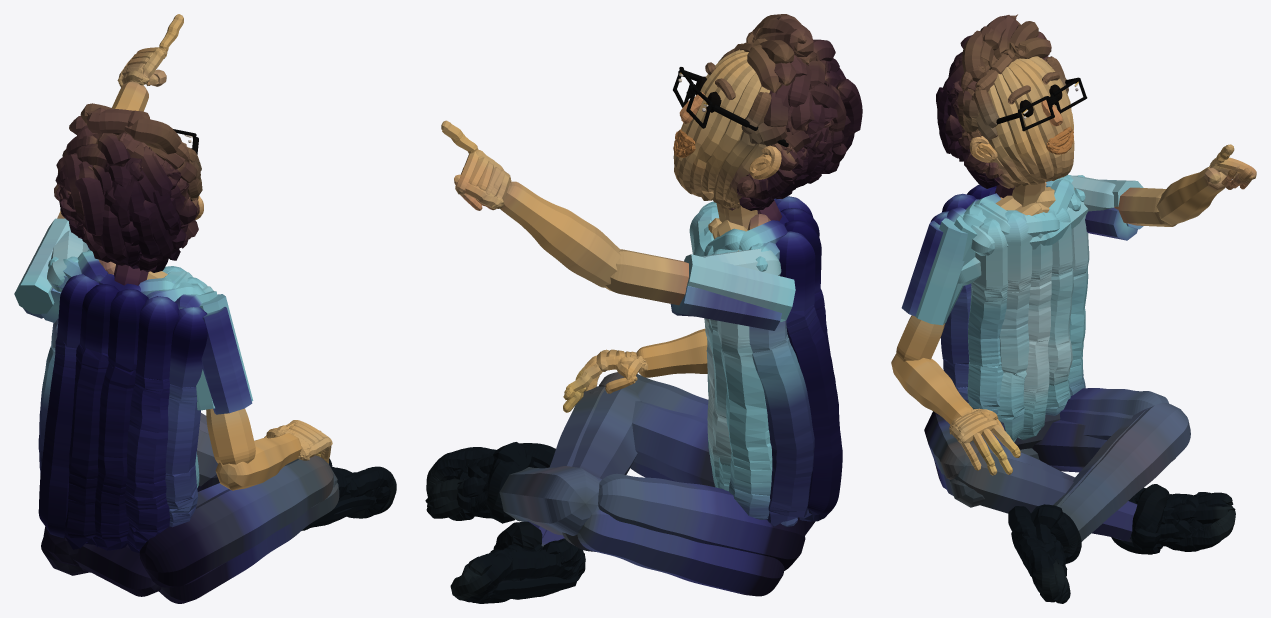
File: dadstars.fbx
3 renders of one model, left to right at view 1: azimuth 30°, elevation 25°; view 2: azimuth 150°, elevation 25°; view 3: azimuth 270°, elevation 25°, orthographic. The views are drawn at different scales.
Visible parts, largest first — view 1: NewLayer1; view 2: NewLayer1; view 3: NewLayer1.
Boxes of the visible parts, x1,y1,x2,y2 form: NewLayer1: (14,14,396,603); NewLayer1: (425,14,862,603); NewLayer1: (891,14,1256,603).
Size of the model in its own units: 1.61 by 2.16 by 1.55.
